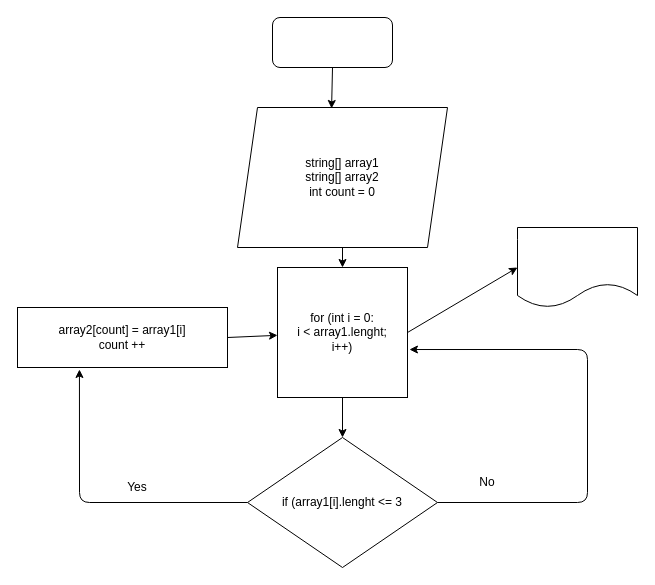
The diagram is 655 pixels wide and 585 high, and some of its shapes have lost their labels. Each missing label, with the box of its shape:
PrintArray (array2): (516, 226, 638, 308)
SecondArray: (272, 16, 392, 68)
